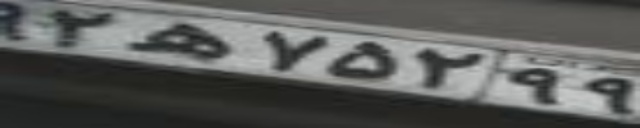2: (417, 46, 484, 89), (45, 7, 113, 46)
5: (331, 39, 397, 79)
7: (259, 30, 326, 71)
9: (508, 66, 560, 106), (583, 76, 636, 115), (0, 1, 25, 41)
he: (123, 20, 227, 59)
